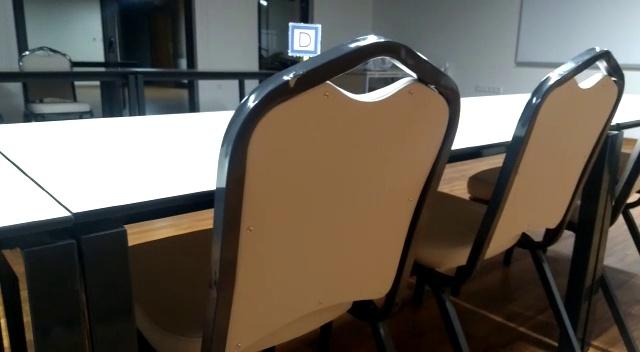durak: (288, 23, 321, 57)
